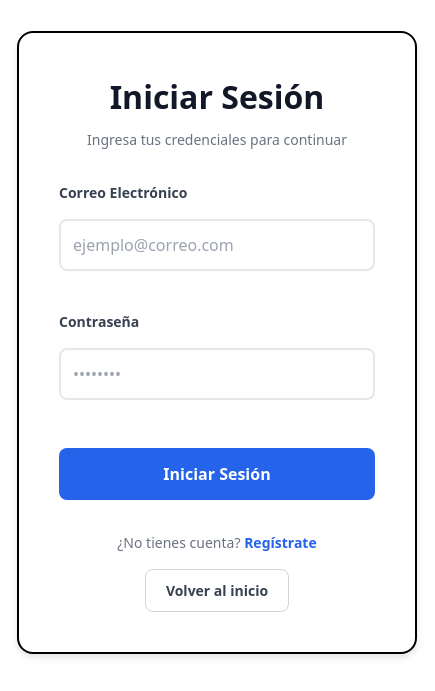
LoginPage › Validación de campos › debe mostrar error si el email no es válido
The image size is (435, 691).
Type "emailinvalido" into the field labelled "Correo Electrónico".
click(217, 244); type("emailinvalido")  # box [59,218,375,270]
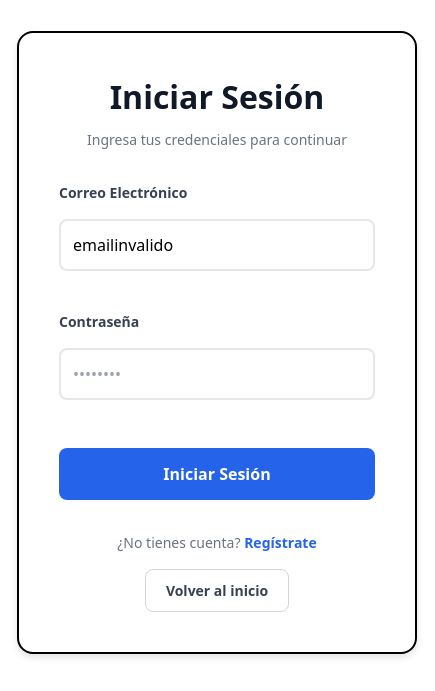
Leave the field labelled "Correo Electrónico", box [59,218,375,270]
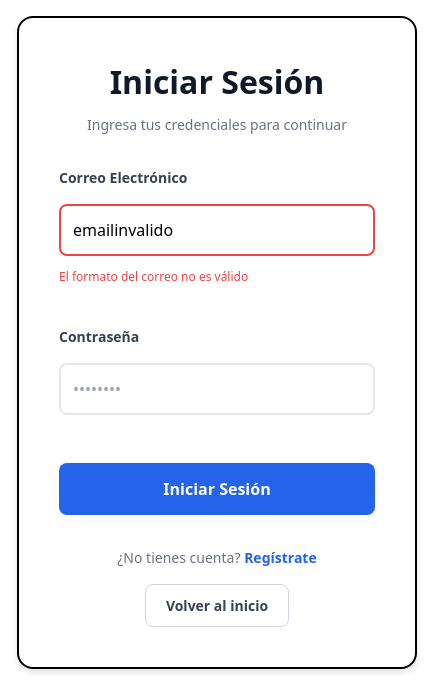
Now the text "El formato del correo no es válido" is shown, box [59,268,248,284]
